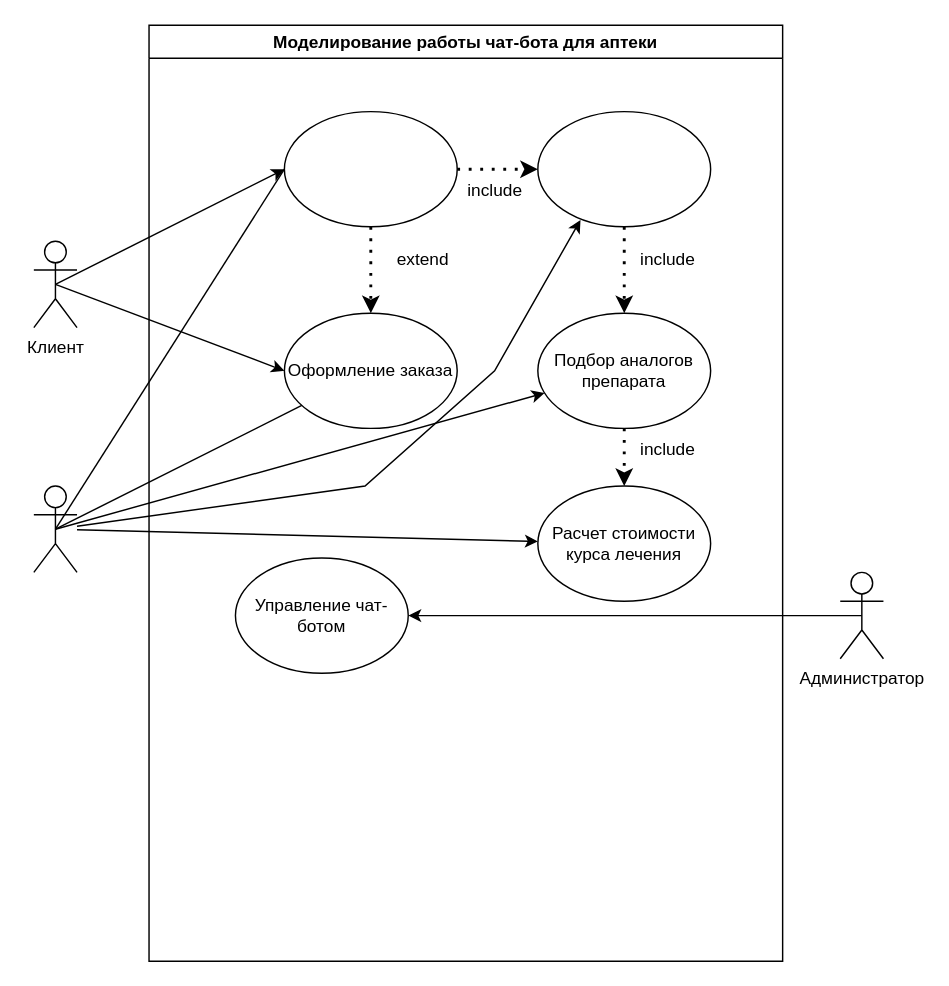
The diagram is 949 pixels wide and 986 high, and some of its shapes have lost their labels. Here are the shapes that lost their labels. From the top down, the centre of each, then its label:
(370,168): Получение консультации
(623,168): Подбор препарата по симптомам
(54,528): Чат-бот
